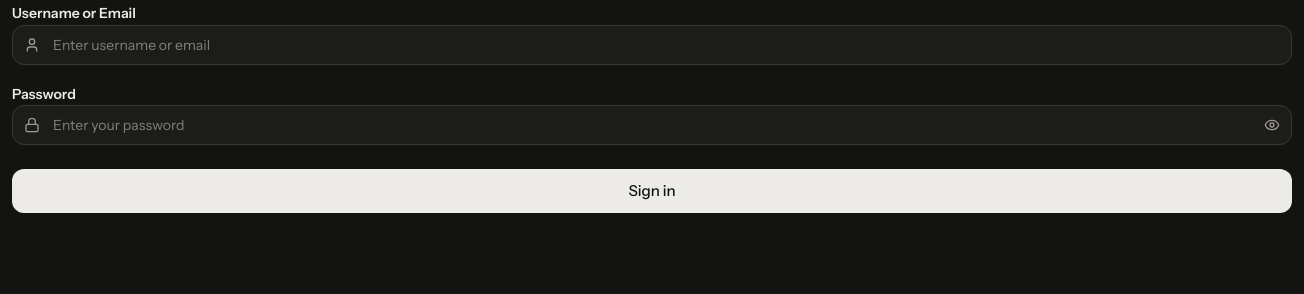
LoginForm › shows why sign-in failed
The image size is (1304, 294).
In the field labelled "Username or Email": (652, 45) [12,25,1292,65], type "admin"
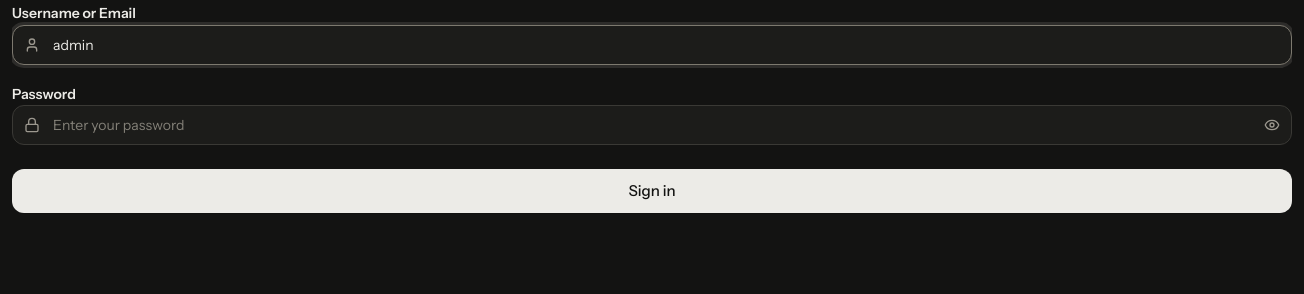
In the password field labelled "Password": (652, 125) [12,105,1292,145], type "wrong"
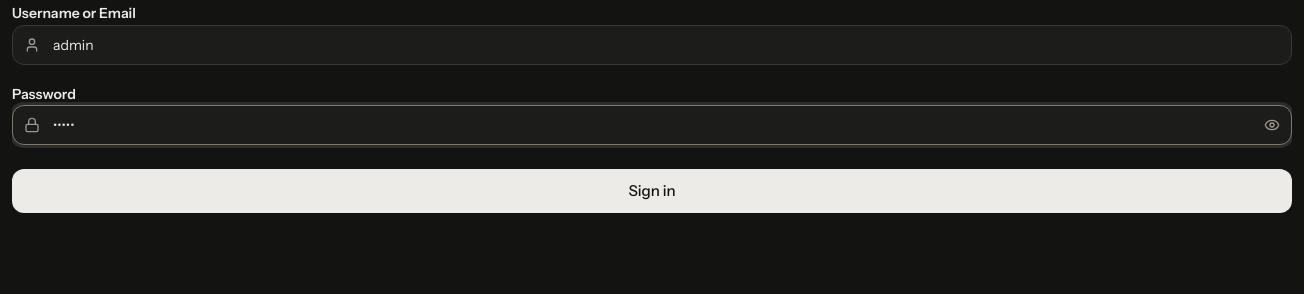
Click the button "Sign in": (652, 191) [12,169,1292,213]
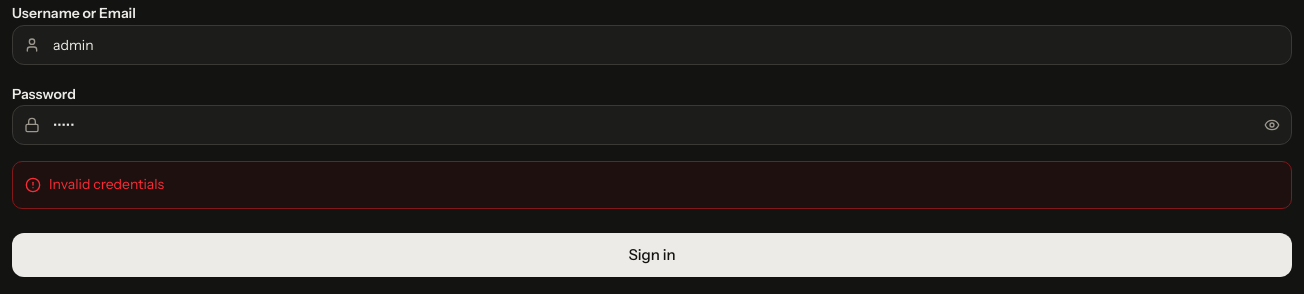
Expected: the text "Invalid credentials" is shown, [49,174,164,196]
